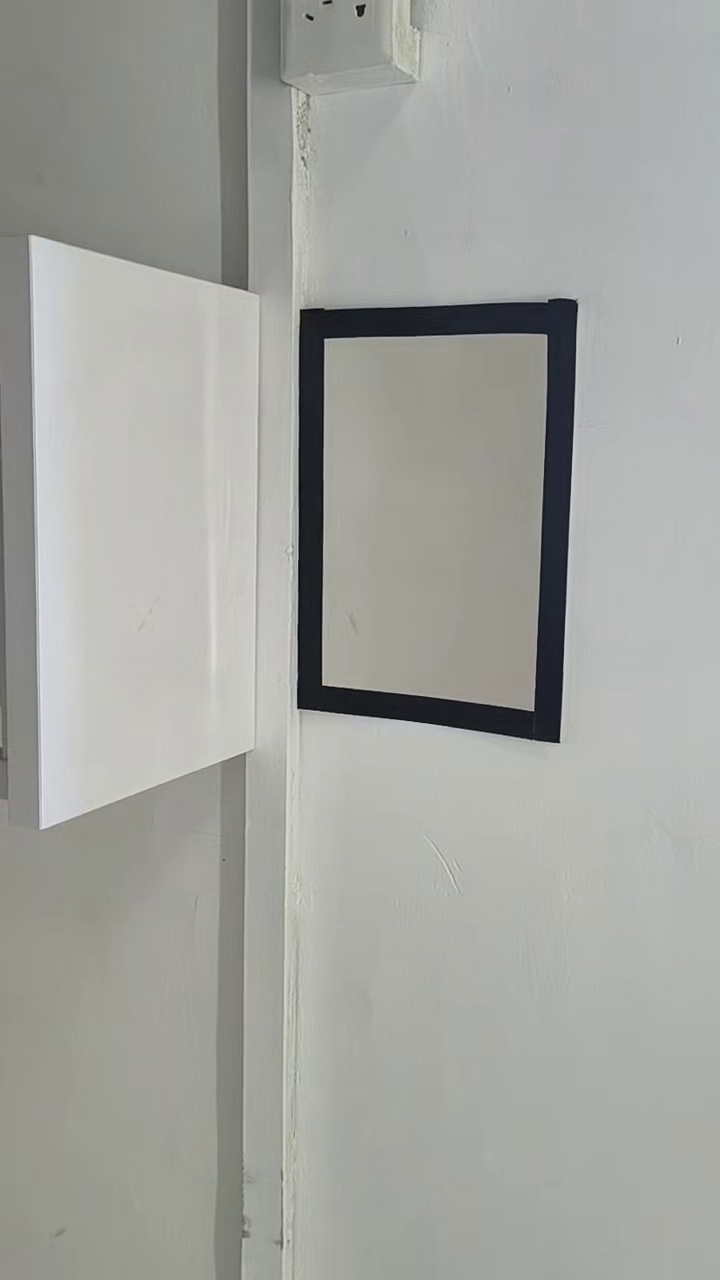board: (302, 307, 576, 737)
